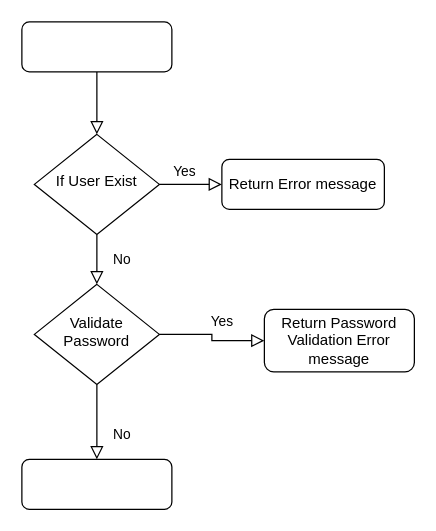
Some shapes in this 436 by 531 pixel diagram are drawn without their labels. The box of each missing label's shape, as (x1, y1, x2, y2) in pixels:
User Creation: (21, 458, 172, 509)
User Register: (21, 21, 172, 72)
